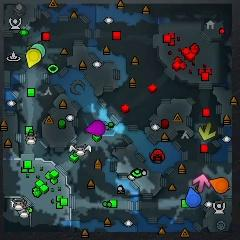p1: (185, 188, 201, 208)
p2: (32, 44, 46, 57)
p3: (85, 120, 107, 136)
p4: (26, 48, 41, 70)
p5: (209, 177, 229, 194)
x1: (192, 173, 211, 192)
x2: (198, 122, 216, 142)
